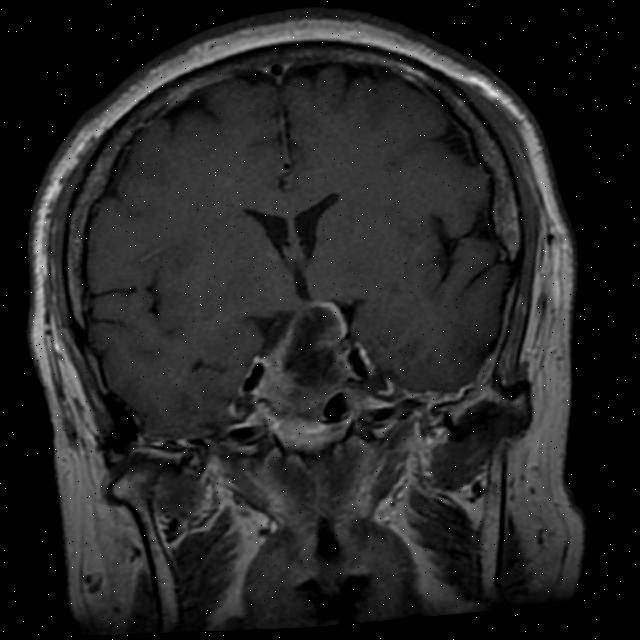Pituitary: (261, 299, 358, 425)
